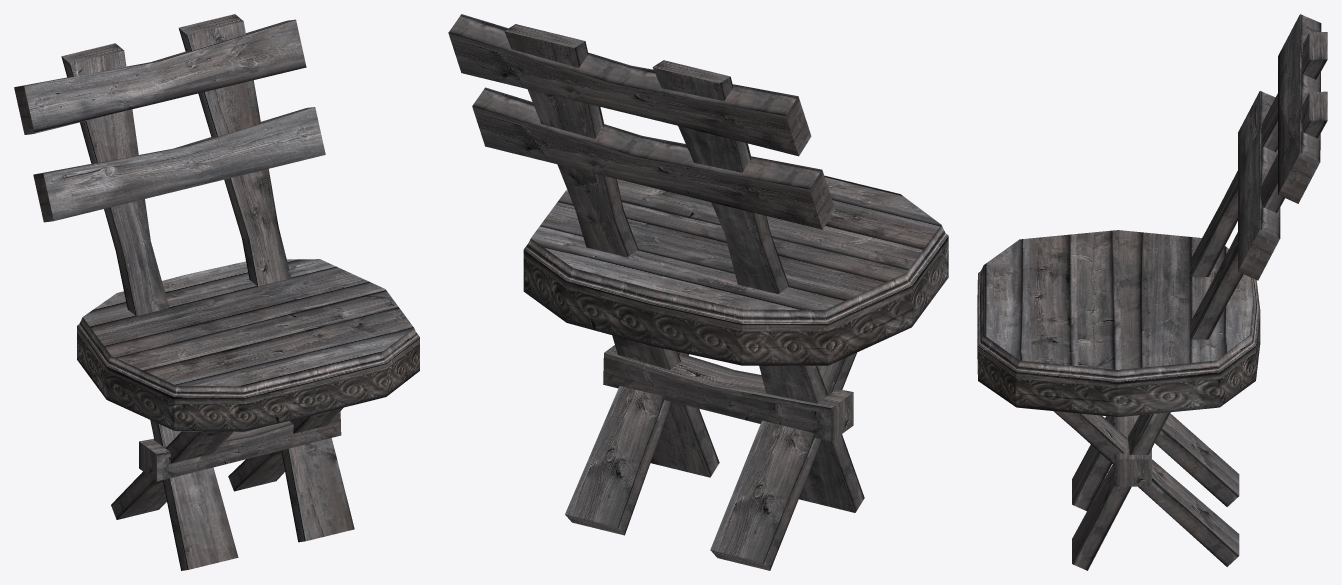
The model's file is tavern_chair.dae.
3 views of the same model, side by side, from view 1: azimuth 30°, elevation 25°; view 2: azimuth 150°, elevation 25°; view 3: azimuth 270°, elevation 25° (orthographic). The views are drawn at different scales.
Visible parts, largest first — view 1: Default_Layer; view 2: Default_Layer; view 3: Default_Layer.
Boxes of the visible parts, x1=… form: Default_Layer: x1=14, y1=14, x2=419, y2=570; Default_Layer: x1=448, y1=14, x2=948, y2=570; Default_Layer: x1=977, y1=14, x2=1327, y2=570.
Size of the model in its own units: 1.14 by 1.66 by 1.17.
